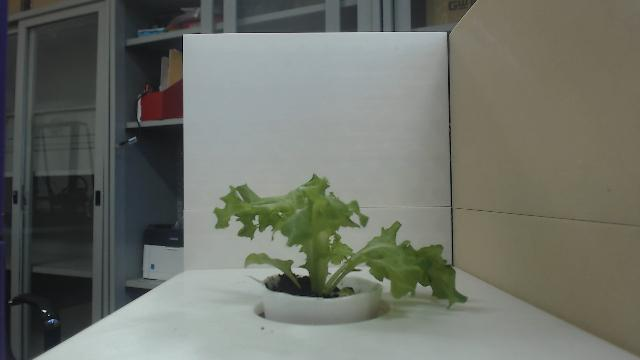Vegetative Stage: (212, 172, 470, 310)
